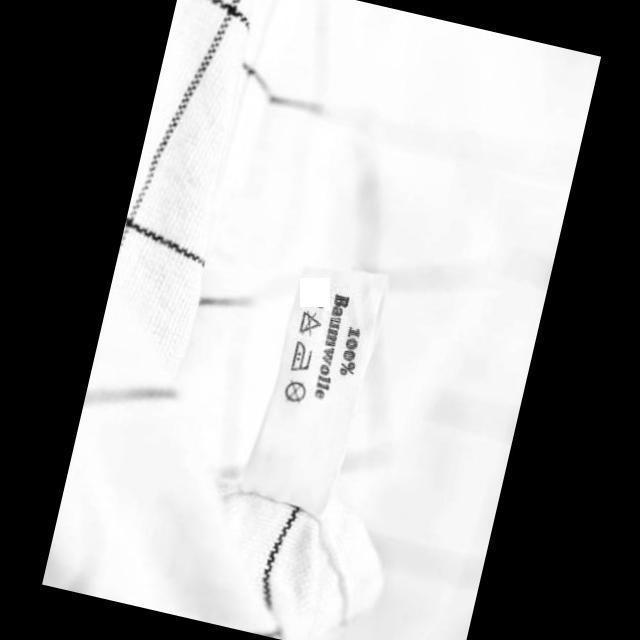DN_bleach: (294, 307, 324, 340)
DN_dry_clean: (280, 376, 310, 406)
iron_medium: (286, 338, 315, 375)
